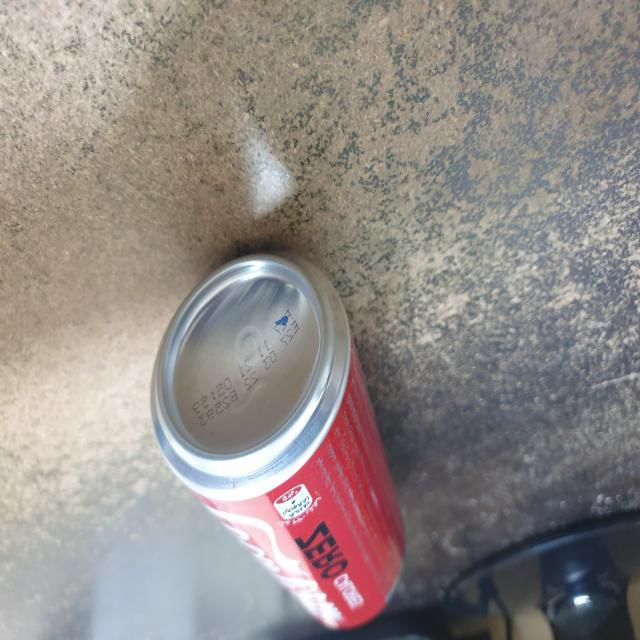can: (148, 252, 408, 634)
